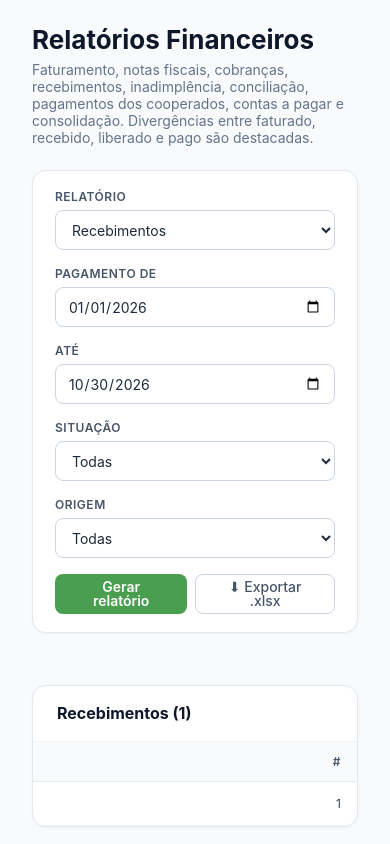
Scenario: Relatórios Financeiros › refiltra ao trocar situação e origem e avisa quando não há registros
Expected: the heading "Recebimentos (1)" is shown, [57,704,192,723]
Select "Estornado" in the dropdown below "Situação". click: x=195, y=461
box: [55,441,335,481]
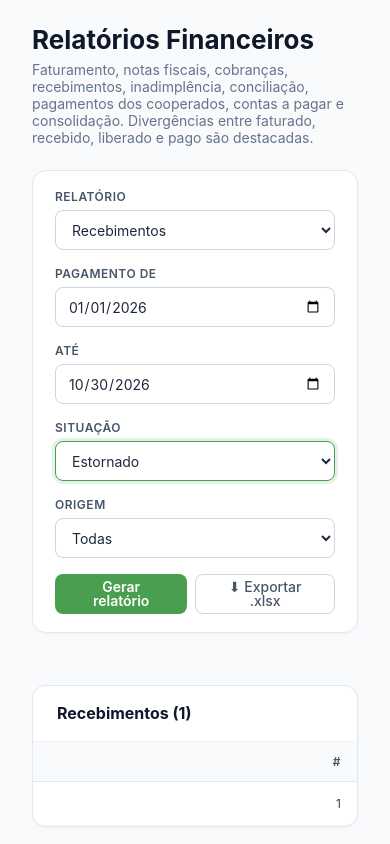
Select "Baixa manual" in the dropdown below "Origem". click: x=195, y=538
box: [55,518,335,558]
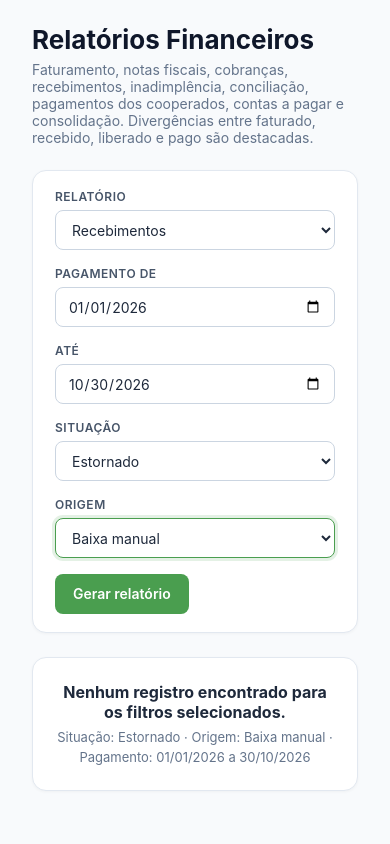
Expected: the text "Nenhum registro encontrado para os filtros selecionados." is shown, [57,682,333,722]
Expected: the text "Situação: Estornado · Origem: Baixa manual" is shown, [57,729,333,765]
Expected: the heading "Recebimentos (1)" is gone
